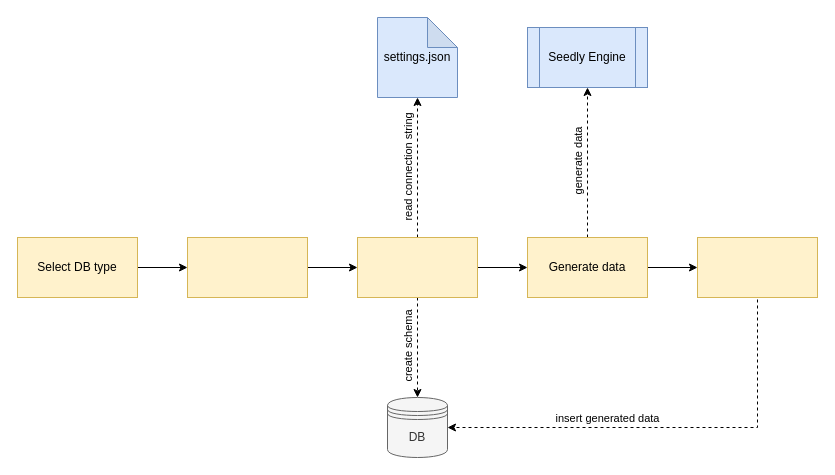
The diagram is 835 pixels wide and 475 high, and some of its shapes have lost their labels. The shapes that lost their labels are listed below. From the top down, each one's centre as x and y in pixels, then its label:
(x=247, y=267): Select schema template
(x=417, y=267): Generate schema
(x=757, y=267): Seed data
